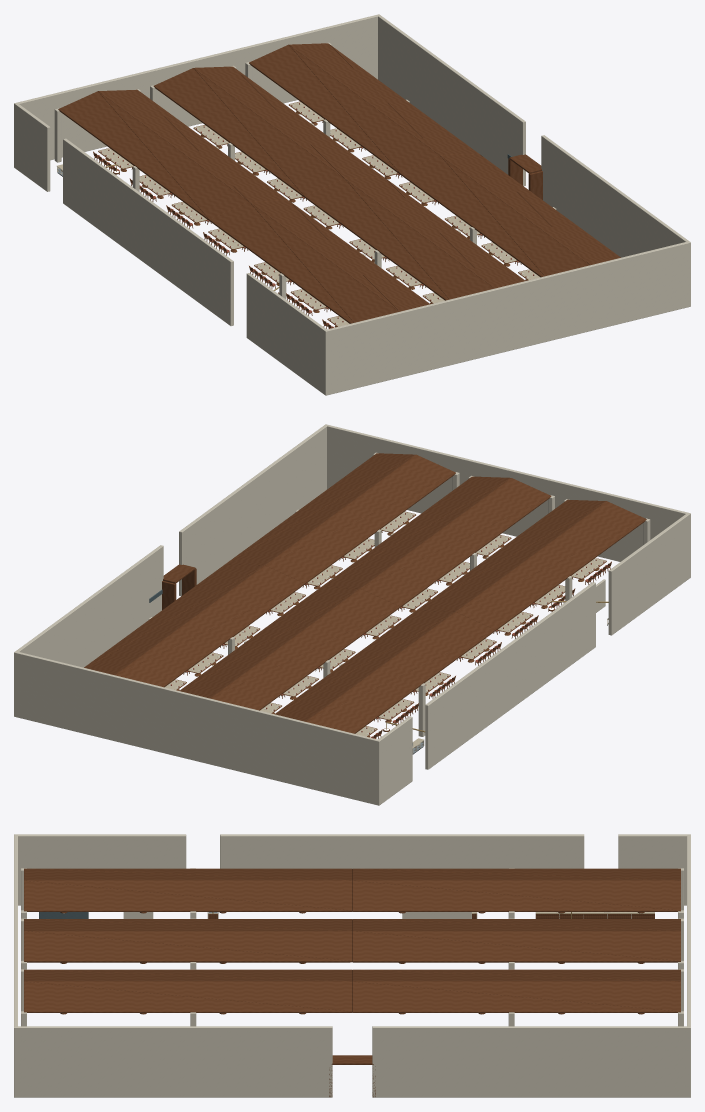
The model's file is SOL_D10_directory_01_remaining_batch.glb.
3 renders of one model, top to bottom at view 1: azimuth 30°, elevation 25°; view 2: azimuth 150°, elevation 25°; view 3: azimuth 270°, elevation 25°, orthographic. The views are drawn at different scales.
Visible parts, largest first — view 1: C_aft, C_service_boundary_1, C_arrival_fore, C_fore, C_arrival_aft, C_service_boundary_2, C_shared_vault_2_0_2, C_shared_vault_1_0_2, C_shared_vault_0_0_2, C_shared_vault_2_1_2, C_shared_vault_1_1_2, C_shared_vault_0_1_2 (+19 smaller); view 2: C_fore, C_service_boundary_1, C_arrival_aft, C_aft, C_arrival_fore, C_service_boundary_2, C_shared_vault_2_1_2, C_shared_vault_0_1_2, C_shared_vault_1_1_2, C_shared_vault_2_0_3, C_shared_vault_2_1_3, C_shared_vault_0_1_3 (+19 smaller); view 3: C_arrival_fore, C_arrival_aft, C_service_boundary_1, C_service_boundary_2, C_shared_vault_1_0_1, C_shared_vault_1_1_1, C_shared_vault_0_0_1, C_shared_vault_2_0_1, C_shared_vault_0_1_1, C_shared_vault_2_1_1, C_shared_vault_2_1_0, C_shared_vault_0_1_0 (+21 smaller).
Part boxes in pixels (left/top/right/bottom): C_aft: left=324, top=242, right=690, bottom=395; C_service_boundary_1: left=63, top=138, right=233, bottom=325; C_arrival_fore: left=377, top=14, right=525, bottom=186; C_fore: left=14, top=14, right=379, bottom=168; C_arrival_aft: left=541, top=135, right=690, bottom=307; C_service_boundary_2: left=246, top=273, right=328, bottom=395; C_shared_vault_2_0_2: left=58, top=91, right=209, bottom=220; C_shared_vault_1_0_2: left=153, top=68, right=304, bottom=197; C_shared_vault_0_0_2: left=249, top=44, right=399, bottom=173; C_shared_vault_2_1_2: left=209, top=202, right=353, bottom=323; C_shared_vault_1_1_2: left=305, top=179, right=448, bottom=300; C_shared_vault_0_1_2: left=400, top=155, right=544, bottom=277; C_fore: left=15, top=652, right=380, bottom=805; C_service_boundary_1: left=425, top=582, right=595, bottom=769; C_arrival_aft: left=179, top=424, right=327, bottom=596; C_aft: left=327, top=425, right=690, bottom=561; C_arrival_fore: left=14, top=545, right=163, bottom=717; C_service_boundary_2: left=608, top=513, right=690, bottom=635; C_shared_vault_2_1_2: left=456, top=519, right=646, bottom=630; C_shared_vault_0_1_2: left=265, top=473, right=455, bottom=584; C_shared_vault_1_1_2: left=361, top=496, right=550, bottom=607; C_shared_vault_2_0_3: left=306, top=612, right=494, bottom=721; C_shared_vault_2_1_3: left=457, top=501, right=646, bottom=610; C_shared_vault_0_1_3: left=266, top=454, right=455, bottom=564; C_arrival_fore: left=372, top=1026, right=690, bottom=1097; C_arrival_aft: left=14, top=1026, right=332, bottom=1097; C_service_boundary_1: left=220, top=834, right=584, bottom=868; C_service_boundary_2: left=14, top=834, right=186, bottom=905; C_shared_vault_1_0_1: left=352, top=931, right=680, bottom=962; C_shared_vault_1_1_1: left=24, top=931, right=352, bottom=962; C_shared_vault_0_0_1: left=352, top=981, right=680, bottom=1012; C_shared_vault_2_0_1: left=352, top=880, right=680, bottom=911; C_shared_vault_0_1_1: left=24, top=981, right=352, bottom=1012; C_shared_vault_2_1_1: left=24, top=880, right=352, bottom=911; C_shared_vault_2_1_0: left=26, top=880, right=352, bottom=910; C_shared_vault_0_1_0: left=26, top=981, right=352, bottom=1011.
Size of the model in its own units: 46 by 7.75 by 68.
Materials: 41 (40 with a texture image).
